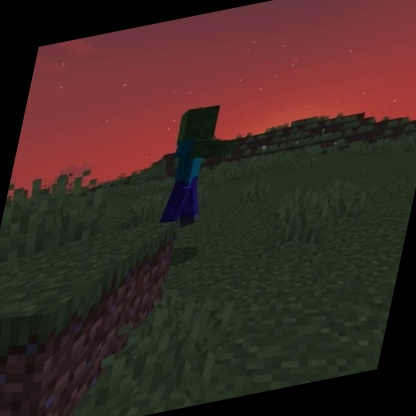zombie: (151, 97, 243, 235)
